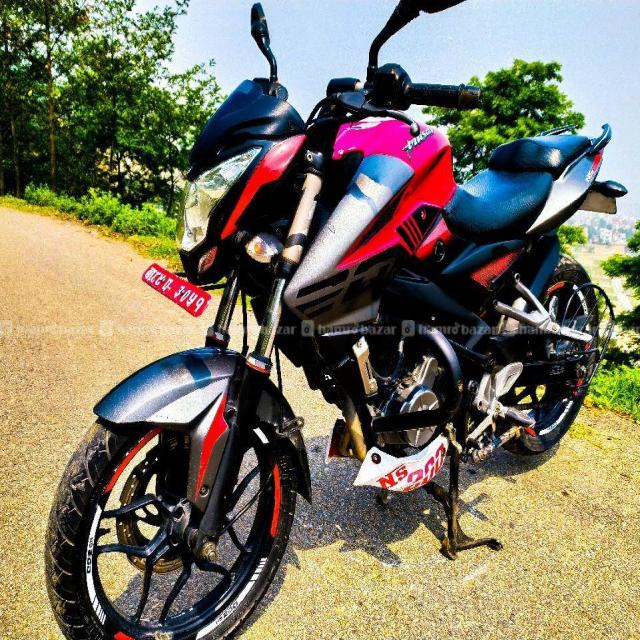License-plate: (137, 252, 209, 318)
